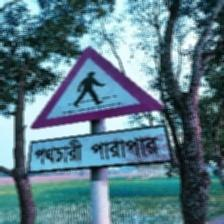Pedestrian-crossing: (27, 47, 173, 173)
